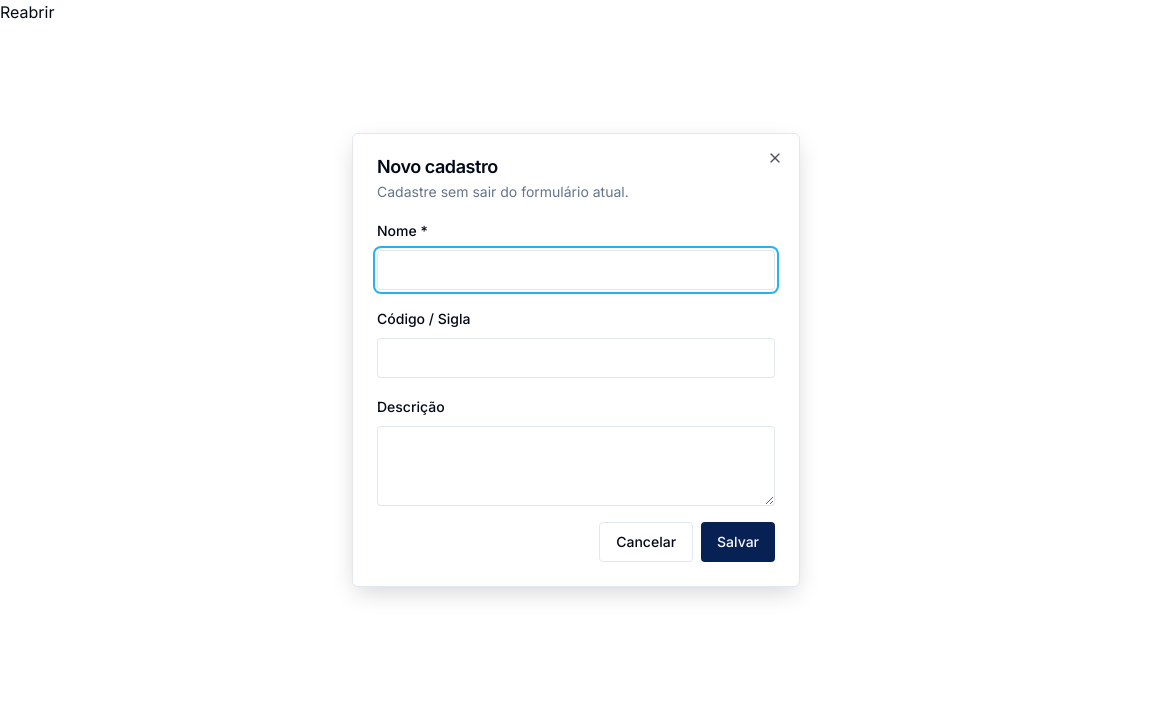
QuickAddDialog › mantém o diálogo e os valores em erro
The image size is (1152, 720).
Type "Duplicado" into the field labelled "Nome *" at (576, 270), box [377,250,775,290]
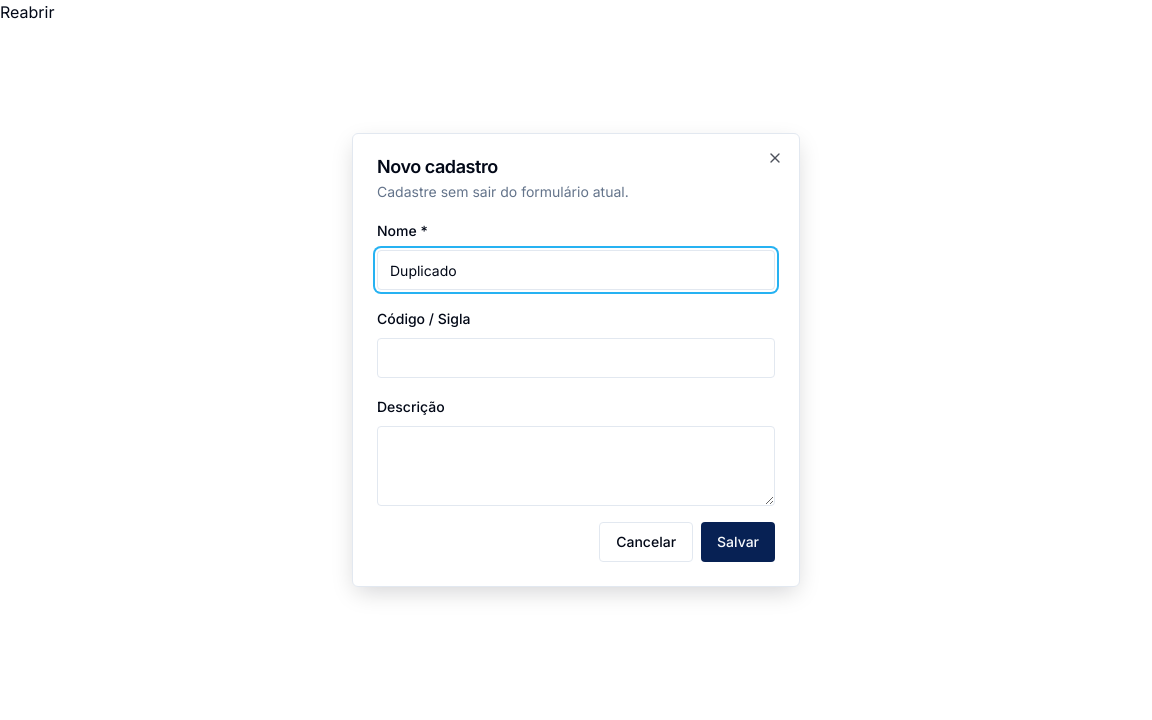
Click the button "Salvar" at (738, 542), box [701,522,775,562]
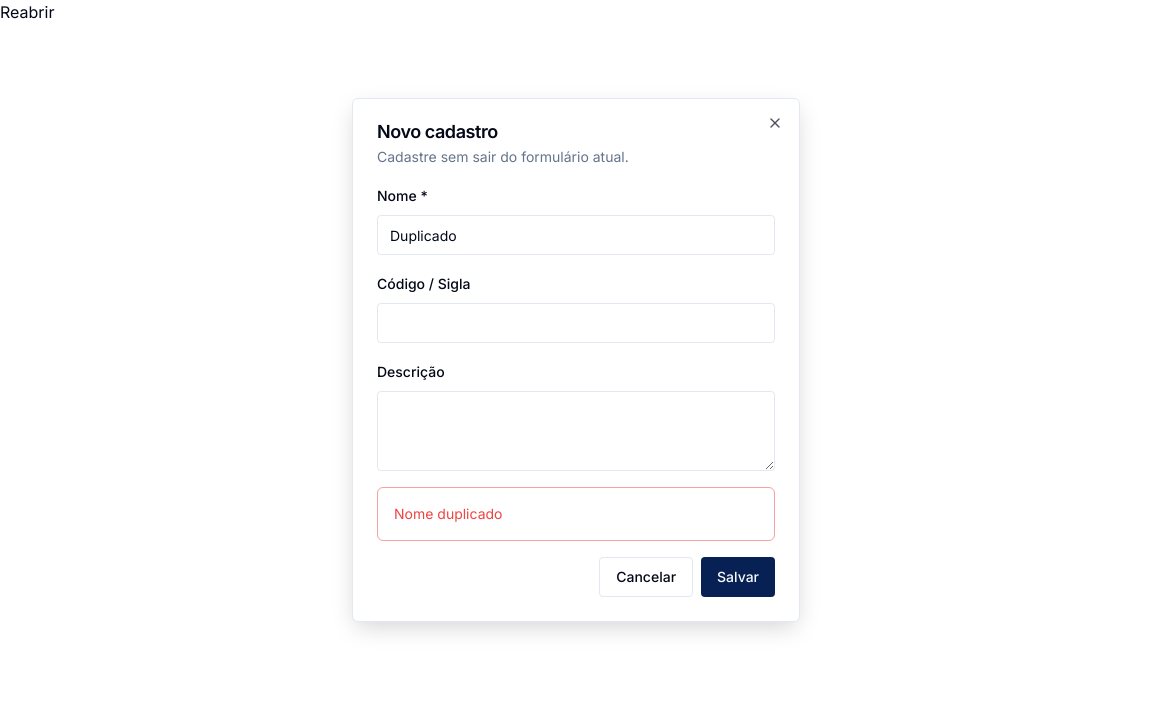
Check: the dialog is shown, box [352,98,800,622]
Check: the message reads "Nome duplicado", box [394,505,502,522]
